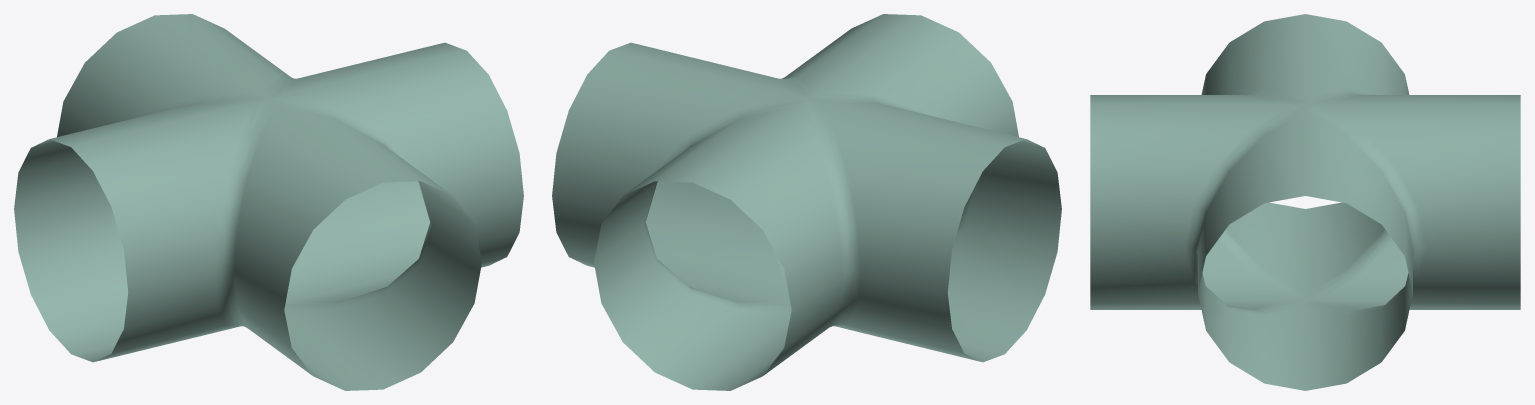
The model's file is PipeLarge_Cross_Plus.fbx.
3 views of the same model, side by side, from view 1: azimuth 30°, elevation 25°; view 2: azimuth 150°, elevation 25°; view 3: azimuth 270°, elevation 25° (orthographic). The views are drawn at different scales.
Visible parts, largest first — view 1: PipeLarge_Cross_Plus.001; view 2: PipeLarge_Cross_Plus.001; view 3: PipeLarge_Cross_Plus.001.
Part boxes in pixels (left/top/right/bottom): PipeLarge_Cross_Plus.001: left=14, top=14, right=523, bottom=390; PipeLarge_Cross_Plus.001: left=552, top=14, right=1061, bottom=390; PipeLarge_Cross_Plus.001: left=1090, top=14, right=1520, bottom=390.
Size of the model in its own units: 0.4 by 0.2 by 0.4.
